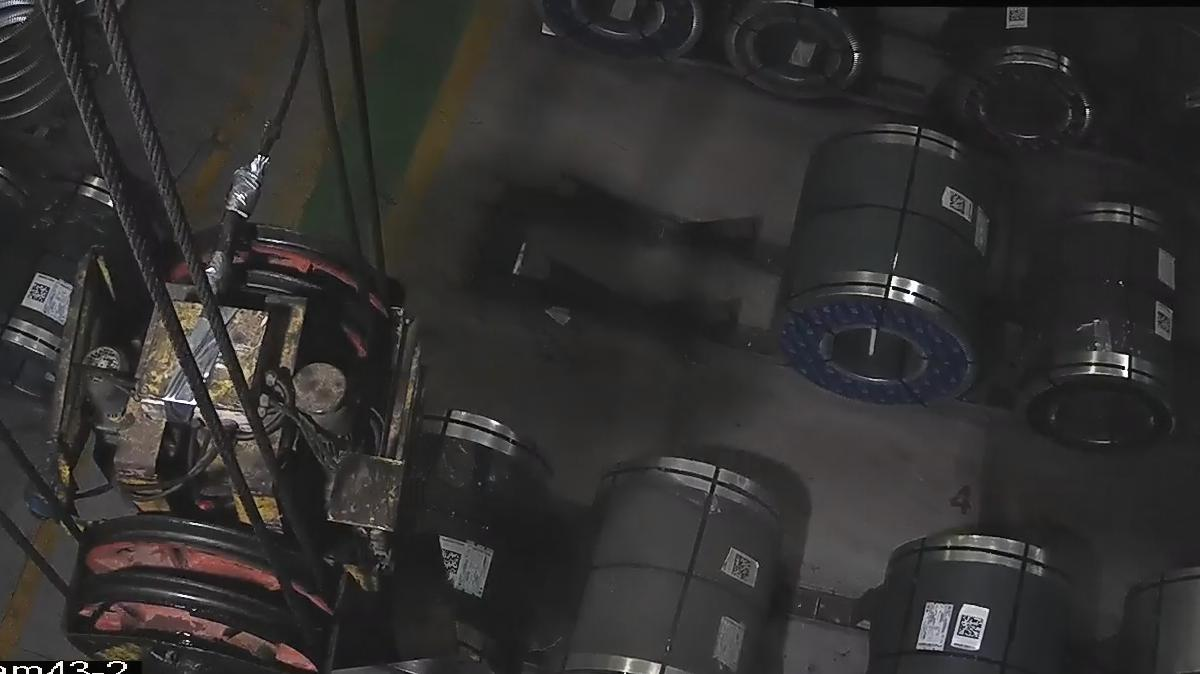data matrix: (956, 612, 987, 642), (730, 552, 754, 584), (26, 281, 53, 305), (1156, 309, 1175, 337), (949, 189, 967, 217), (1008, 8, 1028, 25)
